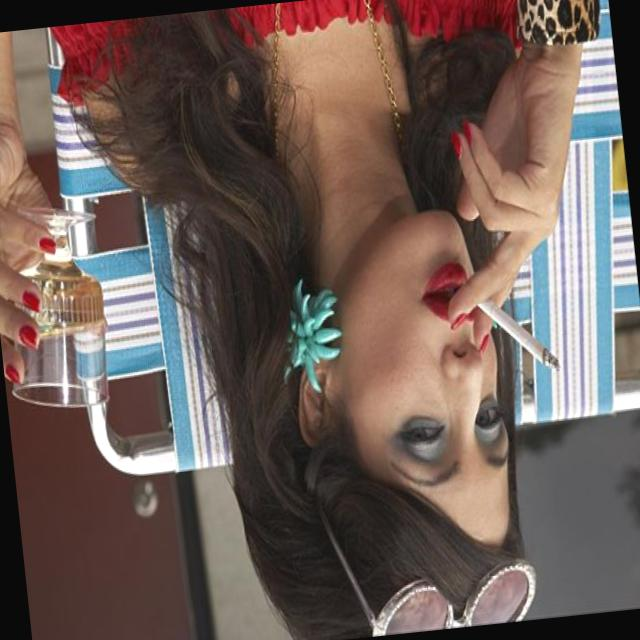cigarette: (478, 290, 563, 374)
